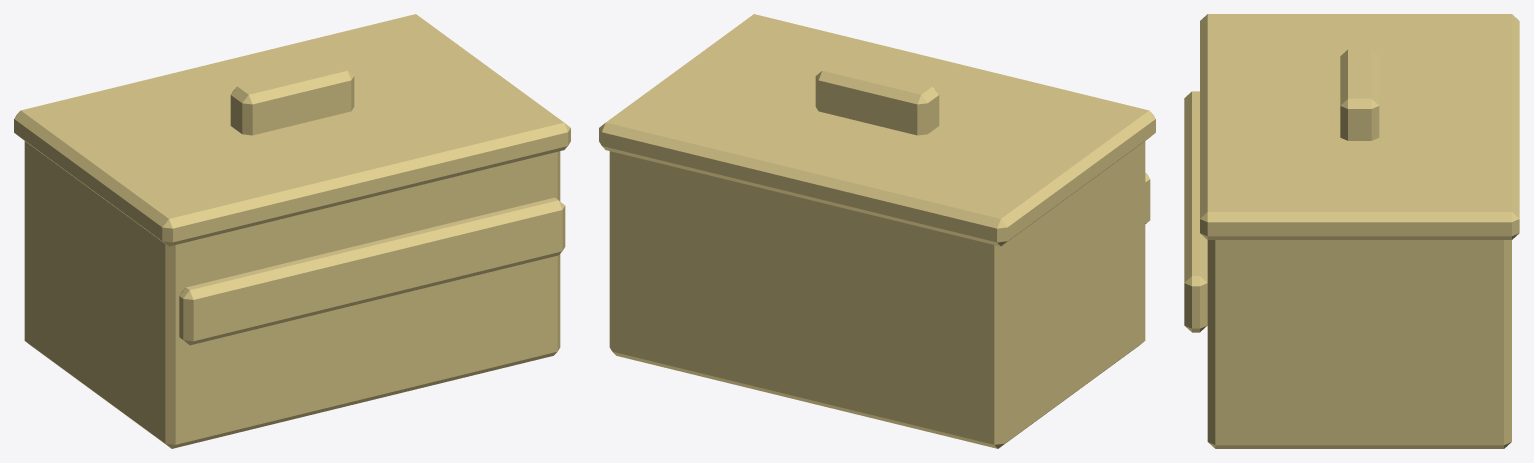
File: prop_ammo-DMEpyLNh.glb
3 views of the same model, side by side, from view 1: azimuth 30°, elevation 25°; view 2: azimuth 150°, elevation 25°; view 3: azimuth 270°, elevation 25° (orthographic). The views are drawn at different scales.
Parts seen in each view (by area): view 1: PropAmmo; view 2: PropAmmo; view 3: PropAmmo.
Boxes of the visible parts, box(x1,y1,x2,y2) form: PropAmmo: box(14, 14, 570, 448); PropAmmo: box(599, 14, 1155, 448); PropAmmo: box(1184, 14, 1519, 448).
Size of the model in its own units: 1.24 by 0.79 by 0.86.
